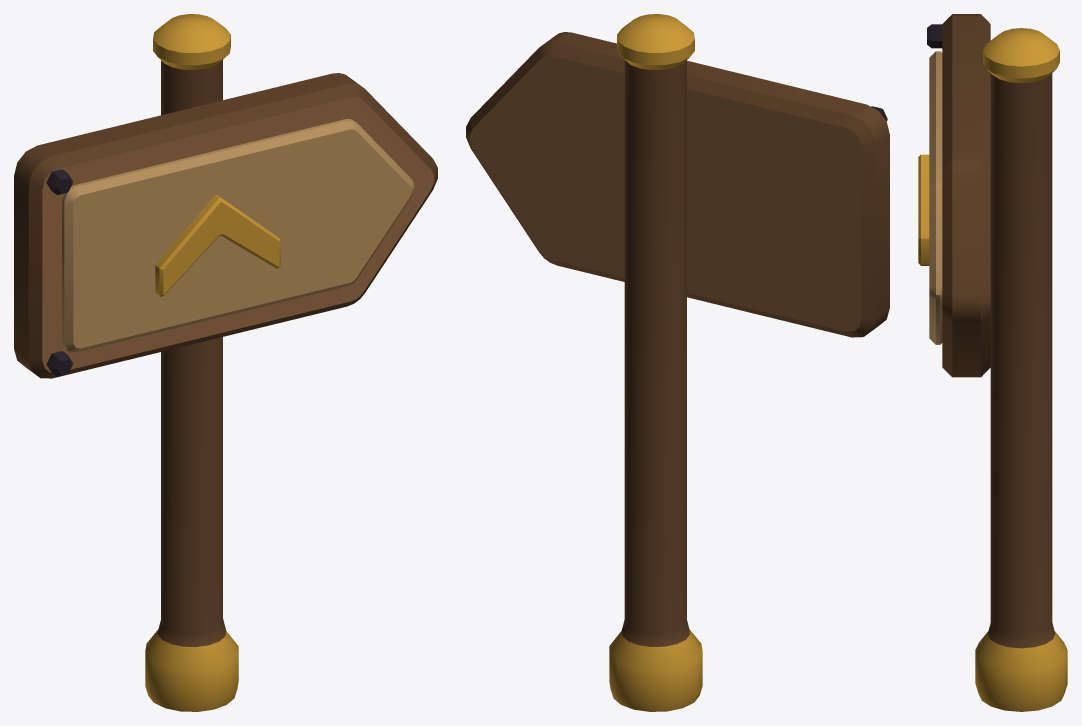
The model's file is Sign_05.glb.
3 renders of one model, left to right at view 1: azimuth 30°, elevation 25°; view 2: azimuth 150°, elevation 25°; view 3: azimuth 270°, elevation 25°, orthographic. The views are drawn at different scales.
Visible parts, largest first — view 1: Sign_05; view 2: Sign_05; view 3: Sign_05.
Boxes of the visible parts, <box> form: Sign_05: <box>14,14,437,711</box>; Sign_05: <box>466,14,889,711</box>; Sign_05: <box>918,14,1067,711</box>.
Bounding box in the file's own units: 2.11 × 3.31 × 0.68.
